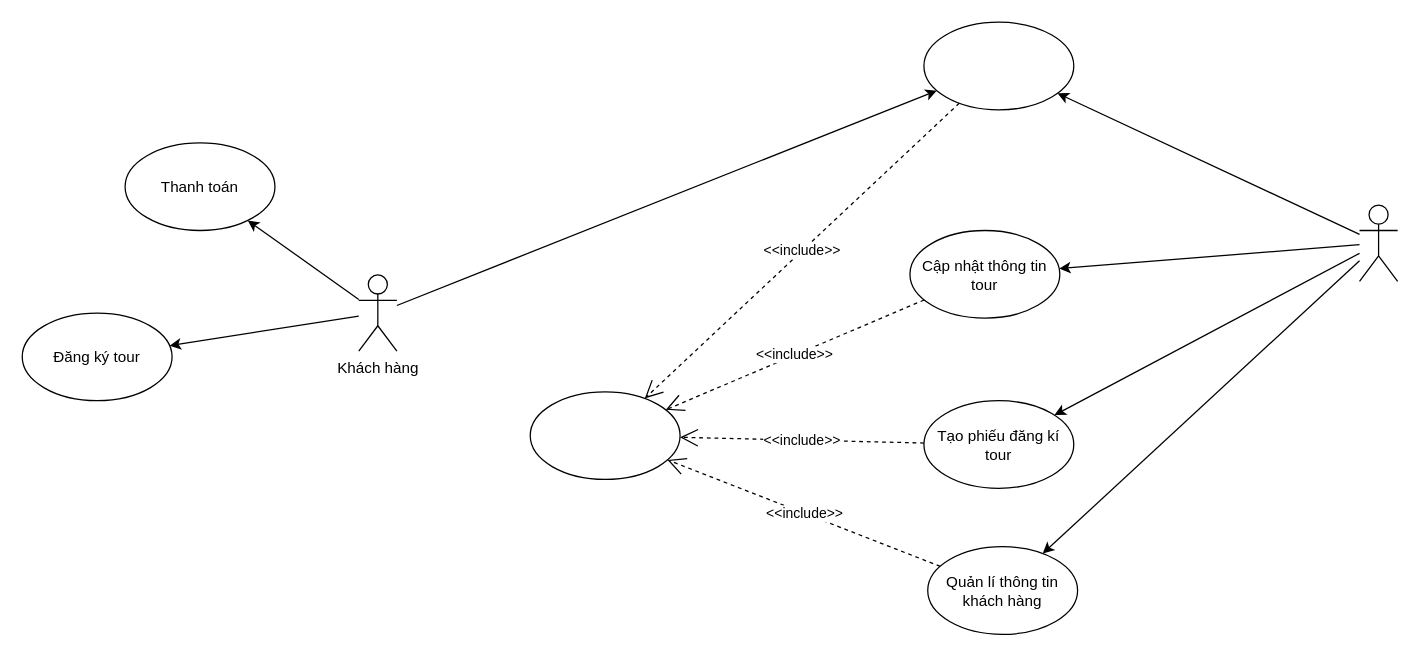
Some shapes in this 1425 by 657 pixel diagram are drawn without their labels. The shapes that lost their labels are listed below. From the top down, each one's centre as x and y in pixels, then its label:
At [998,65]: "Xem thông tin tour".
At [1378,242]: "Quản lí".
At [604,435]: "Đăng nhập".
